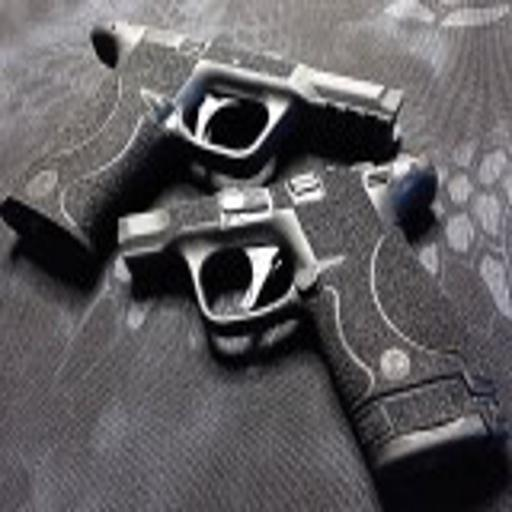Handgun: (117, 152, 504, 481), (2, 11, 405, 272)
